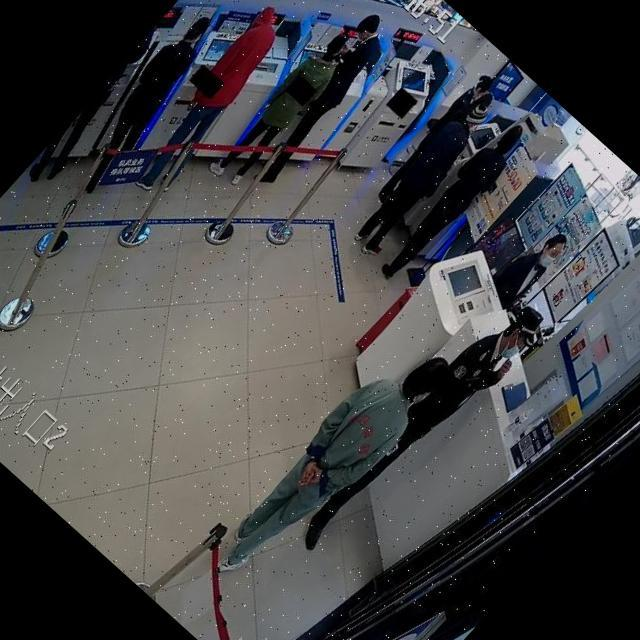person: (198, 324, 461, 604), (293, 290, 552, 569), (116, 0, 306, 201), (54, 8, 232, 200), (234, 8, 404, 192), (369, 114, 535, 293), (22, 13, 186, 191), (204, 23, 361, 192), (344, 95, 499, 262), (370, 70, 497, 208), (372, 70, 499, 206), (482, 219, 574, 316)
